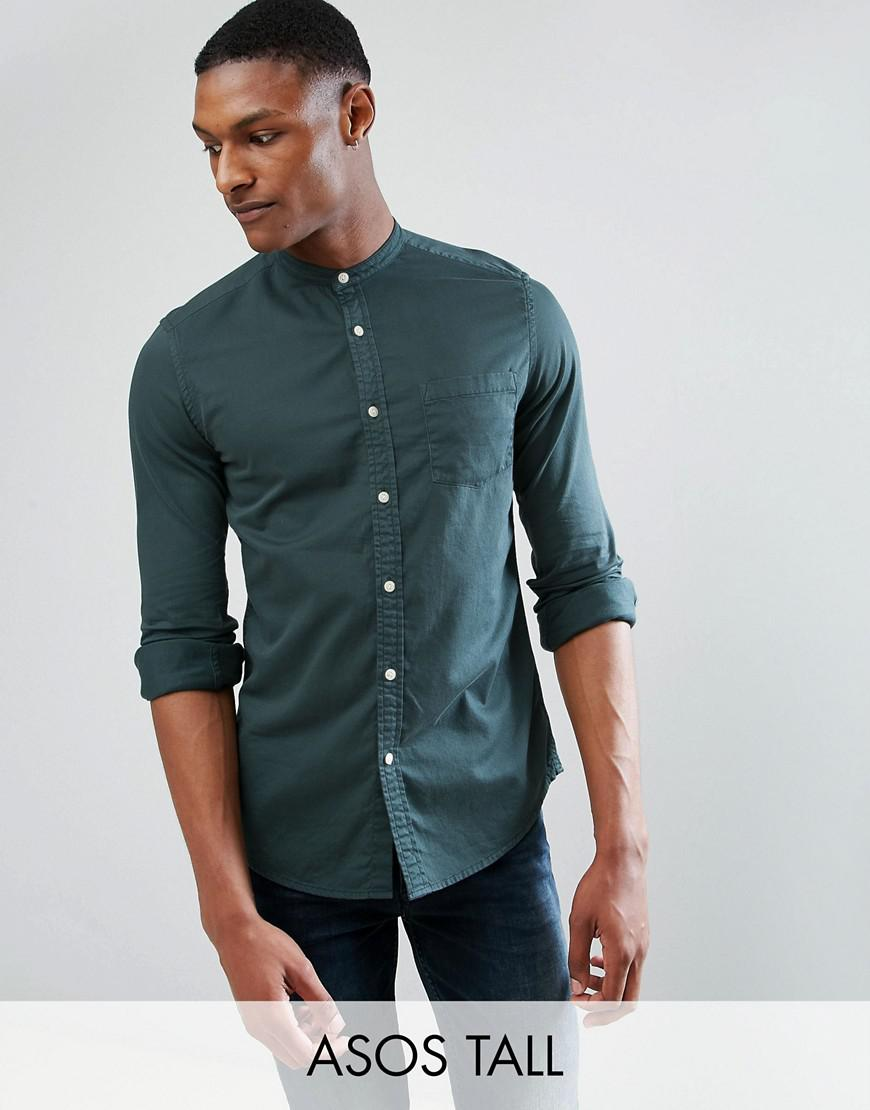teeshirt: (96, 224, 656, 915)
